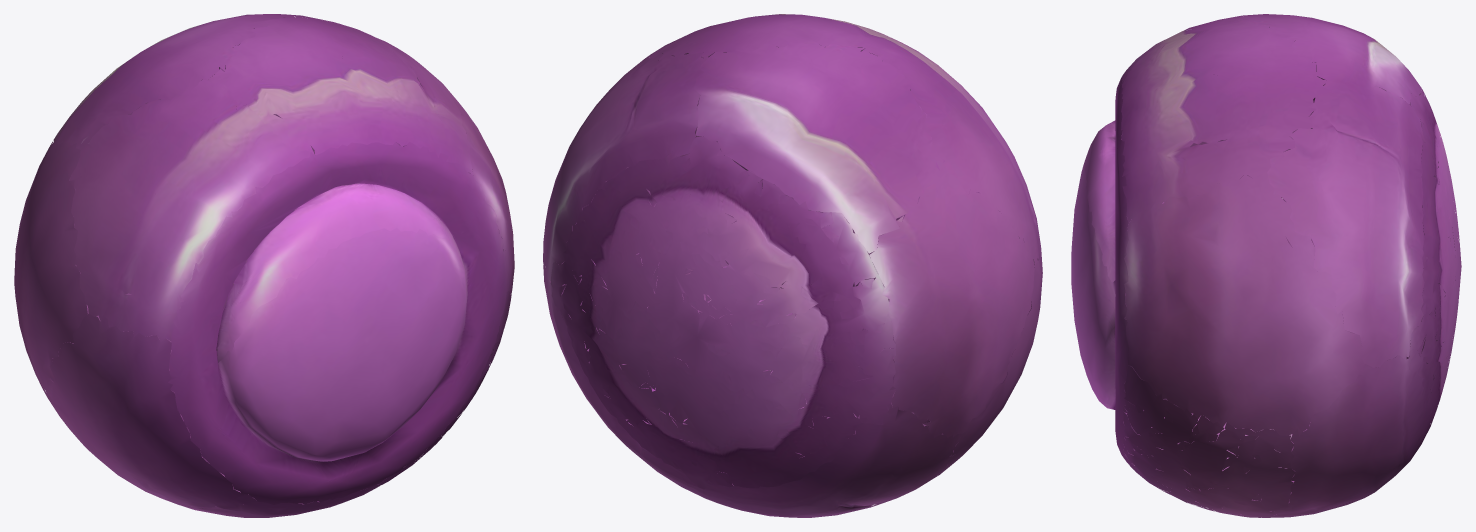
File: iris.glb
3 renders of one model, left to right at view 1: azimuth 30°, elevation 25°; view 2: azimuth 150°, elevation 25°; view 3: azimuth 270°, elevation 25°, orthographic.
Size of the model in its own units: 0.2701 by 0.2698 by 0.2096.
1 material, 1 textured.
